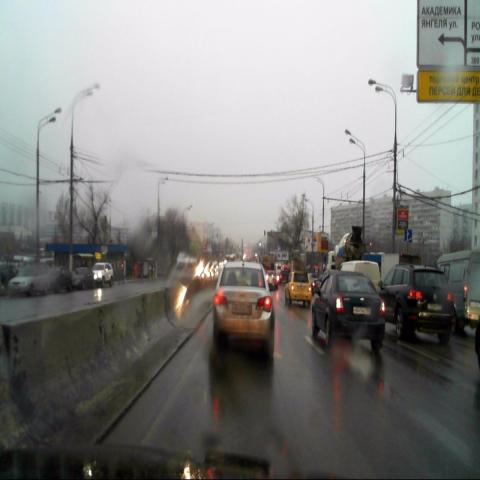6_6: (404, 228, 412, 242)
